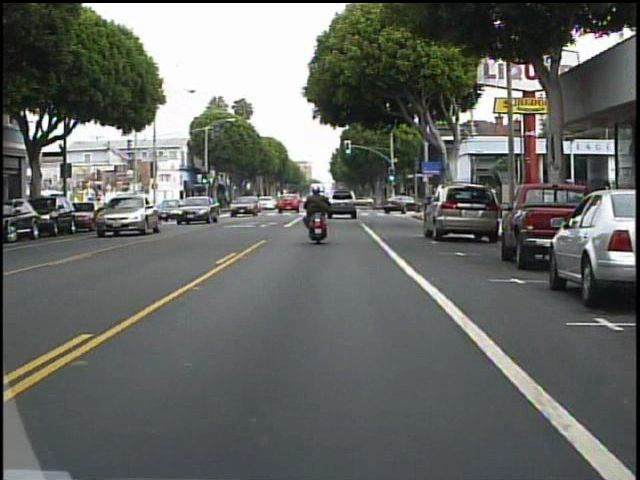person: (301, 181, 336, 242)
